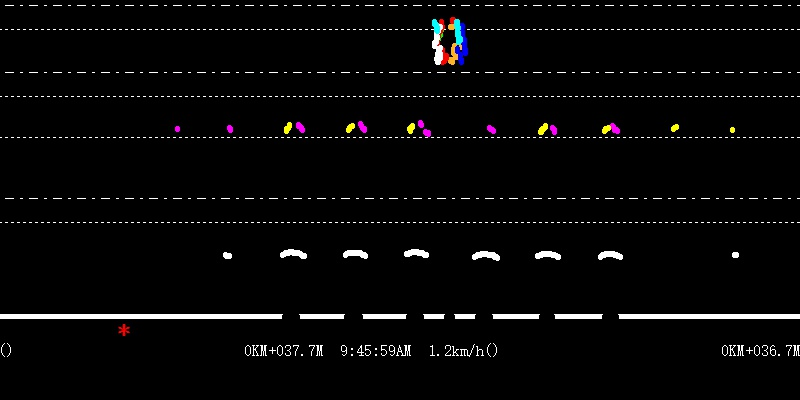J: (430, 3, 468, 64)
star: (114, 320, 132, 339)
y_p: (265, 111, 630, 288)
